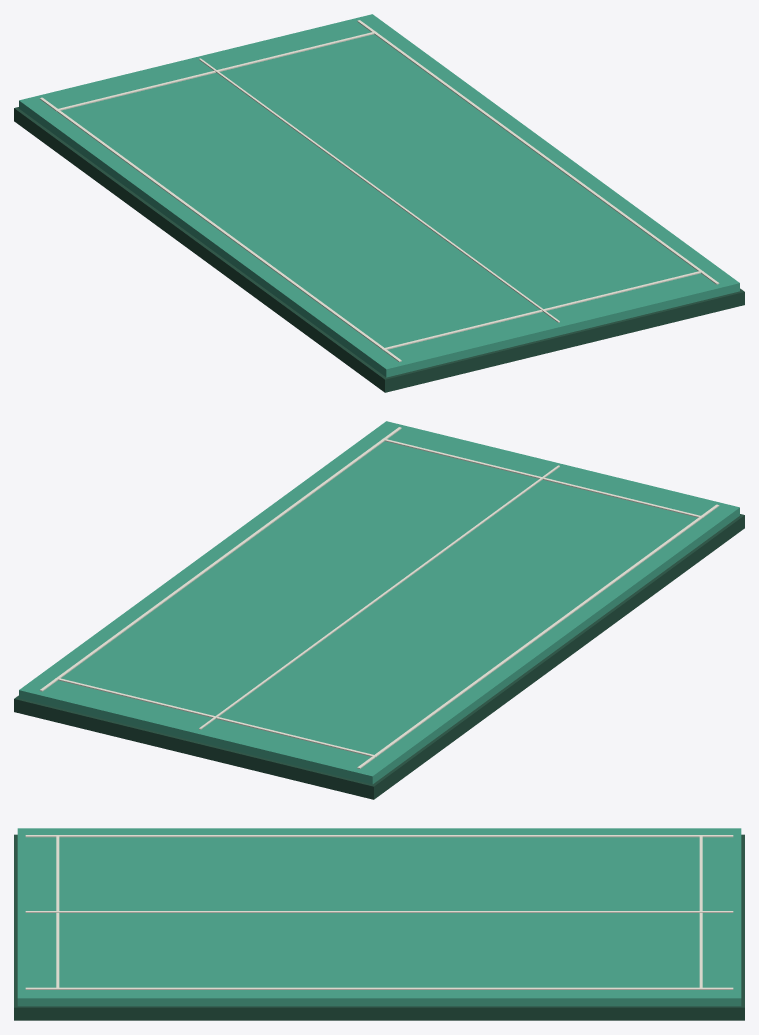
The model's file is table.glb.
The picture shows the model from 3 angles, top to bottom: view 1: azimuth 30°, elevation 25°; view 2: azimuth 150°, elevation 25°; view 3: azimuth 270°, elevation 25°; orthographic projection.
Visible parts, largest first — view 1: Tabletop, Table Apron, Line Long A, Line Long B, Center Line, Line Short A, Line Short B; view 2: Tabletop, Table Apron, Line Long A, Line Long B, Center Line, Line Short B, Line Short A; view 3: Tabletop, Table Apron, Line Long A, Line Long B, Center Line, Line Short B, Line Short A.
Part boxes in pixels (left/top/right/bottom): Tabletop: left=19, top=14, right=739, bottom=377; Table Apron: left=14, top=107, right=744, bottom=392; Line Long A: left=39, top=97, right=401, bottom=361; Line Long B: left=357, top=20, right=719, bottom=284; Center Line: left=199, top=58, right=559, bottom=322; Line Short A: left=381, top=271, right=703, bottom=350; Line Short B: left=55, top=32, right=375, bottom=111; Tabletop: left=19, top=421, right=739, bottom=784; Table Apron: left=14, top=514, right=744, bottom=799; Line Long A: left=357, top=504, right=719, bottom=768; Line Long B: left=39, top=427, right=401, bottom=691; Center Line: left=199, top=465, right=559, bottom=729; Line Short B: left=55, top=677, right=377, bottom=757; Line Short A: left=384, top=439, right=703, bottom=518; Tabletop: left=17, top=828, right=741, bottom=1006; Table Apron: left=14, top=834, right=744, bottom=1020; Line Long A: left=25, top=835, right=733, bottom=837; Line Long B: left=25, top=987, right=733, bottom=989; Center Line: left=25, top=911, right=733, bottom=912; Line Short B: left=699, top=835, right=702, bottom=989; Line Short A: left=56, top=835, right=59, bottom=989.
Size of the model in its own units: 4.58 by 0.28 by 8.18.
